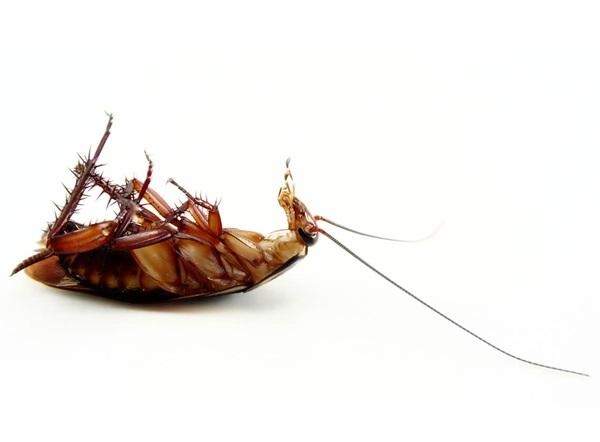cockroach: (12, 180, 329, 310)
